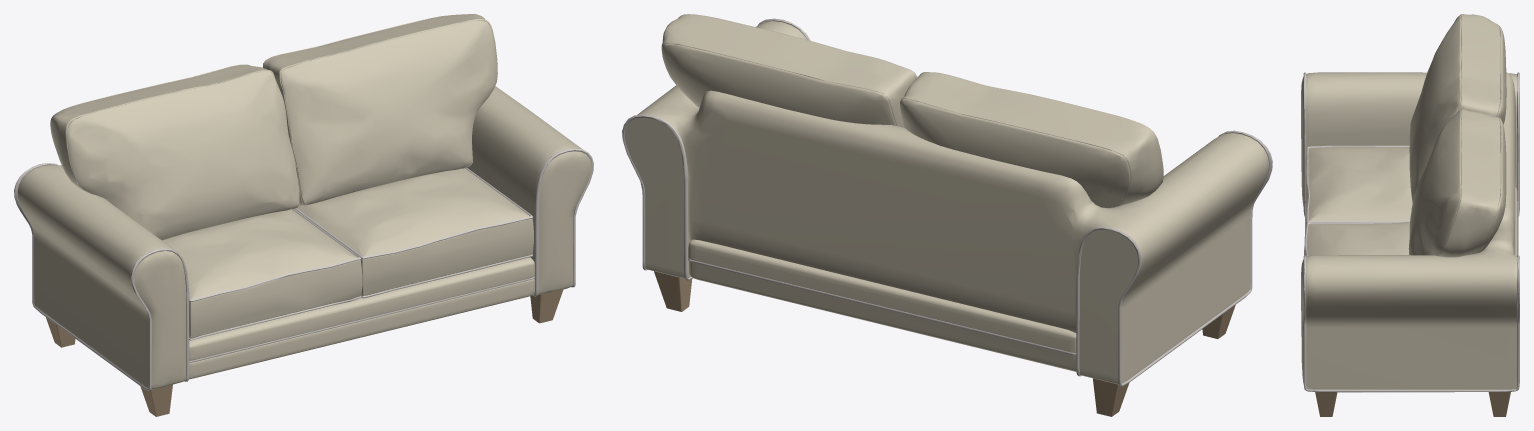
File: sh_blend_swap_cc_0_sofa2.glb
3 views of the same model, side by side, from view 1: azimuth 30°, elevation 25°; view 2: azimuth 150°, elevation 25°; view 3: azimuth 270°, elevation 25° (orthographic). The views are drawn at different scales.
Bounding box in the file's own units: 1.67 × 0.848 × 0.747.
